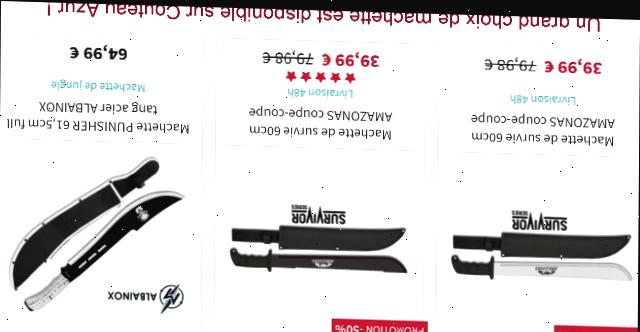long knife: (8, 134, 185, 312), (446, 216, 639, 289), (224, 211, 409, 278)
